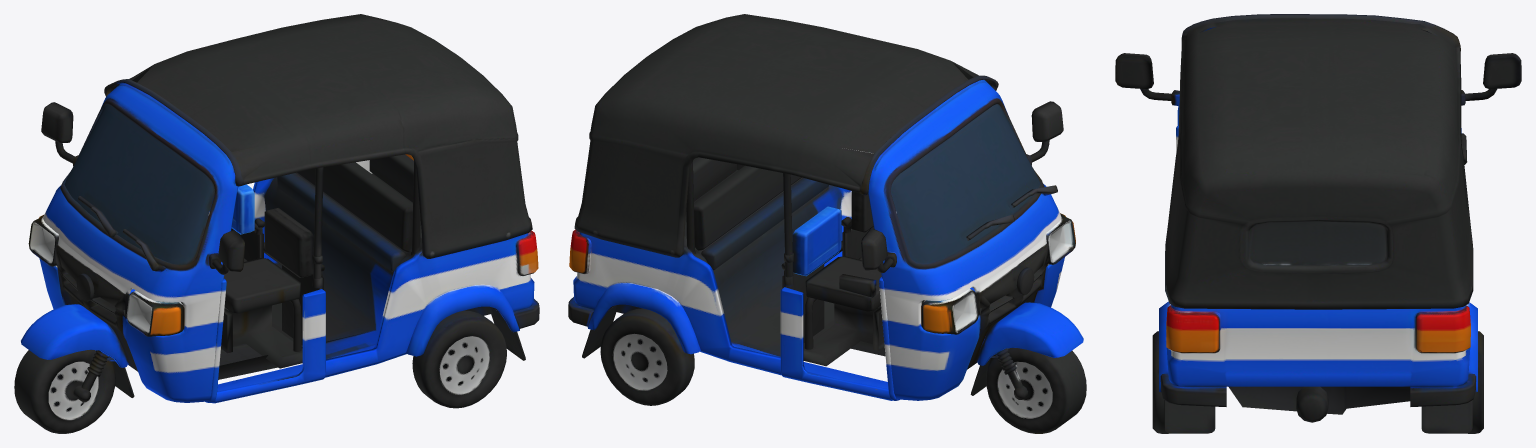
File: tripo_convert_dfe8f025-61be-49b2-b852-325a9f04c834.fbx
3 views of the same model, side by side, from view 1: azimuth 30°, elevation 25°; view 2: azimuth 150°, elevation 25°; view 3: azimuth 270°, elevation 25° (orthographic). The views are drawn at different scales.
Parts seen in each view (by area): view 1: tripo_node_dfe8f025; view 2: tripo_node_dfe8f025; view 3: tripo_node_dfe8f025.
Part boxes in pixels (x1,y1,x2,y2): tripo_node_dfe8f025: (14,14,539,433); tripo_node_dfe8f025: (568,14,1086,433); tripo_node_dfe8f025: (1115,14,1521,433).
Size of the model in its own units: 0.9995 by 0.6372 by 0.7427.
